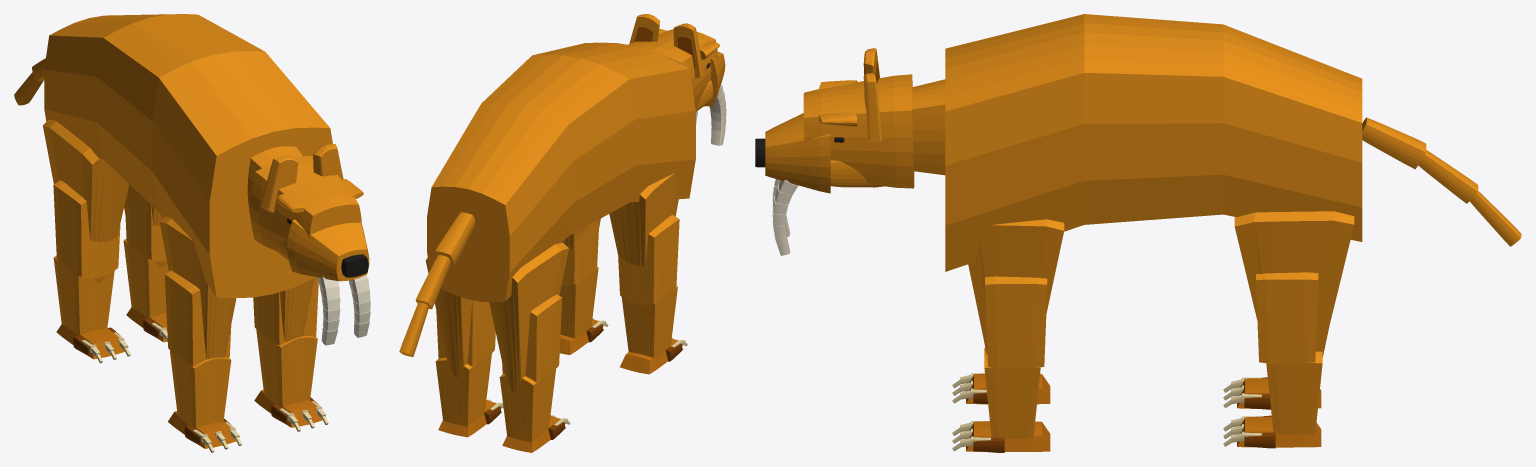
The model's file is terranova_saebelzahn.obj.
3 renders of one model, left to right at view 1: azimuth 30°, elevation 25°; view 2: azimuth 150°, elevation 25°; view 3: azimuth 270°, elevation 25°, orthographic. The views are drawn at different scales.
Visible parts, largest first — view 1: Körper, Vorderbein, Hinterbein, Kopf, Keule, Schultermasse, Schnauze, Säbelzahn, Ohr, Vorderhuf, Hinterhuf, Vorderkralle (+7 smaller); view 2: Körper, Hinterbein, Vorderbein, Keule, Schultermasse, Schwanz, Kopf, Vorderhuf, Hinterhuf, Ohr, Säbelzahn, Schnauze (+3 smaller); view 3: Körper, Hinterbein, Vorderbein, Keule, Kopf, Schultermasse, Schwanz, Schnauze, Hals, Vorderhuf, Hinterhuf, Ohr (+5 smaller).
Part boxes in pixels (left/top/right/bottom): Körper: left=44, top=14, right=332, bottom=298; Vorderbein: left=164, top=270, right=318, bottom=428; Hinterbein: left=53, top=180, right=168, bottom=335; Kopf: left=250, top=155, right=361, bottom=251; Keule: left=43, top=119, right=167, bottom=283; Schultermasse: left=159, top=216, right=314, bottom=359; Schnauze: left=287, top=219, right=369, bottom=281; Säbelzahn: left=317, top=274, right=370, bottom=345; Ohr: left=260, top=144, right=343, bottom=212; Vorderhuf: left=168, top=389, right=322, bottom=448; Hinterhuf: left=56, top=307, right=167, bottom=359; Vorderkralle: left=193, top=401, right=328, bottom=452; Körper: left=427, top=42, right=695, bottom=301; Hinterbein: left=435, top=294, right=562, bottom=442; Vorderbein: left=559, top=215, right=679, bottom=358; Keule: left=425, top=242, right=568, bottom=392; Schultermasse: left=562, top=173, right=678, bottom=266; Schwanz: left=399, top=212, right=475, bottom=356; Kopf: left=628, top=29, right=718, bottom=109; Vorderhuf: left=559, top=319, right=683, bottom=374; Hinterhuf: left=438, top=400, right=565, bottom=452; Ohr: left=629, top=14, right=703, bottom=78; Säbelzahn: left=696, top=84, right=726, bottom=145; Schnauze: left=704, top=51, right=725, bottom=106; Körper: left=945, top=14, right=1362, bottom=271; Hinterbein: left=1256, top=272, right=1322, bottom=434; Vorderbein: left=984, top=276, right=1047, bottom=438; Keule: left=1234, top=211, right=1354, bottom=356; Kopf: left=803, top=74, right=914, bottom=188; Schultermasse: left=968, top=219, right=1064, bottom=354; Schwanz: left=1362, top=117, right=1521, bottom=246; Schnauze: left=765, top=113, right=830, bottom=193; Hals: left=912, top=79, right=945, bottom=175; Vorderhuf: left=966, top=373, right=1050, bottom=451; Hinterhuf: left=1237, top=378, right=1321, bottom=447; Ohr: left=863, top=48, right=882, bottom=141.
Size of the model in its own units: 0.4625 by 1.18 by 2.11.
